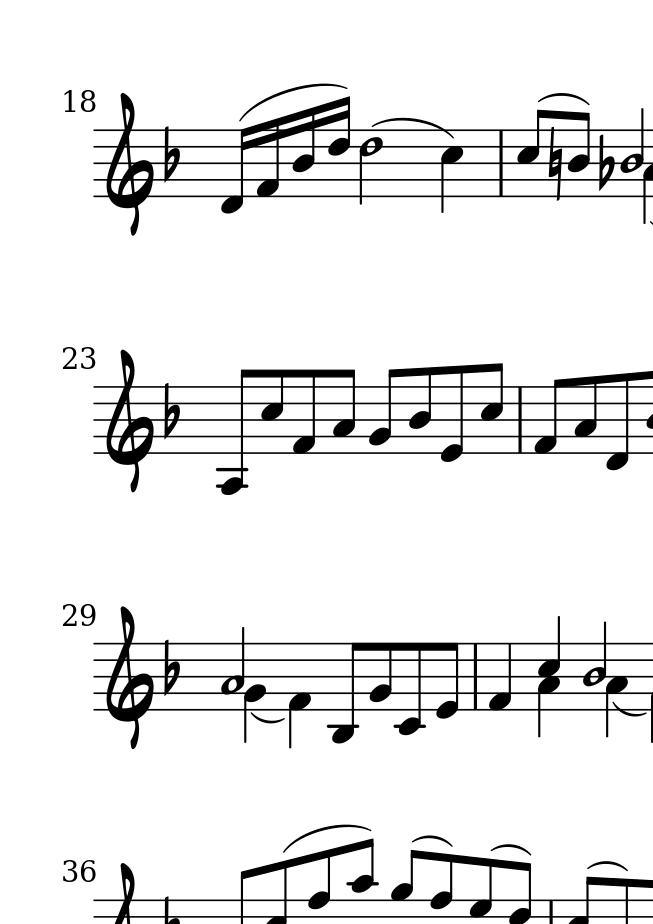1: (64, 86, 77, 115)
16_-1: (219, 125, 252, 215)
16_1: (255, 117, 283, 200)
16_4: (290, 106, 317, 198)
16_6: (327, 94, 352, 200)
2: (61, 343, 78, 373), (60, 602, 79, 628)
2_3: (218, 624, 247, 711)
2_4: (579, 619, 608, 713), (620, 107, 644, 199)
2_6: (357, 128, 383, 206)
3: (76, 344, 96, 373), (61, 857, 78, 884)
4_1: (288, 640, 312, 751), (486, 641, 513, 714)
4_2: (243, 641, 267, 746)
4_5: (438, 128, 465, 212)
6: (78, 855, 98, 884)
8: (78, 86, 97, 115)
8_-1: (604, 372, 631, 473)
8_-2: (394, 639, 426, 737)
8_-3: (327, 641, 364, 747)
8_-4: (215, 368, 255, 497)
8_0: (437, 364, 467, 468), (434, 641, 460, 722)
8_1: (530, 376, 564, 456), (290, 368, 319, 456)
8_2: (366, 367, 398, 456), (368, 641, 394, 712)
8_3: (330, 368, 358, 455), (572, 374, 600, 456)
8_4: (407, 366, 434, 455), (566, 110, 591, 201)
8_5: (513, 108, 546, 198), (477, 361, 504, 456), (260, 367, 286, 454)
9: (79, 600, 96, 629)
Flat: (162, 125, 184, 185), (161, 636, 183, 695), (597, 133, 616, 192), (163, 380, 181, 440)
Gclef: (105, 91, 156, 236), (103, 348, 154, 492), (106, 604, 154, 752)
Natural: (546, 124, 567, 208)
Single_barline: (512, 388, 532, 454), (467, 644, 484, 709), (492, 131, 508, 196)
Slur: (239, 79, 349, 118), (281, 823, 374, 853), (371, 116, 453, 141), (538, 88, 592, 108), (490, 839, 534, 855), (587, 858, 631, 873), (611, 702, 647, 719), (413, 832, 454, 846), (249, 711, 286, 725)
